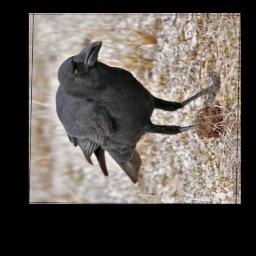Crow: (54, 40, 221, 184)
